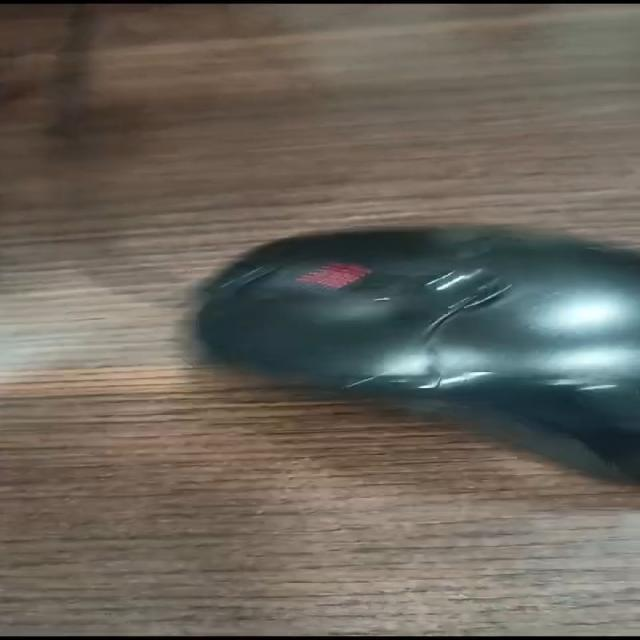Mouse: (54, 113, 640, 531)
